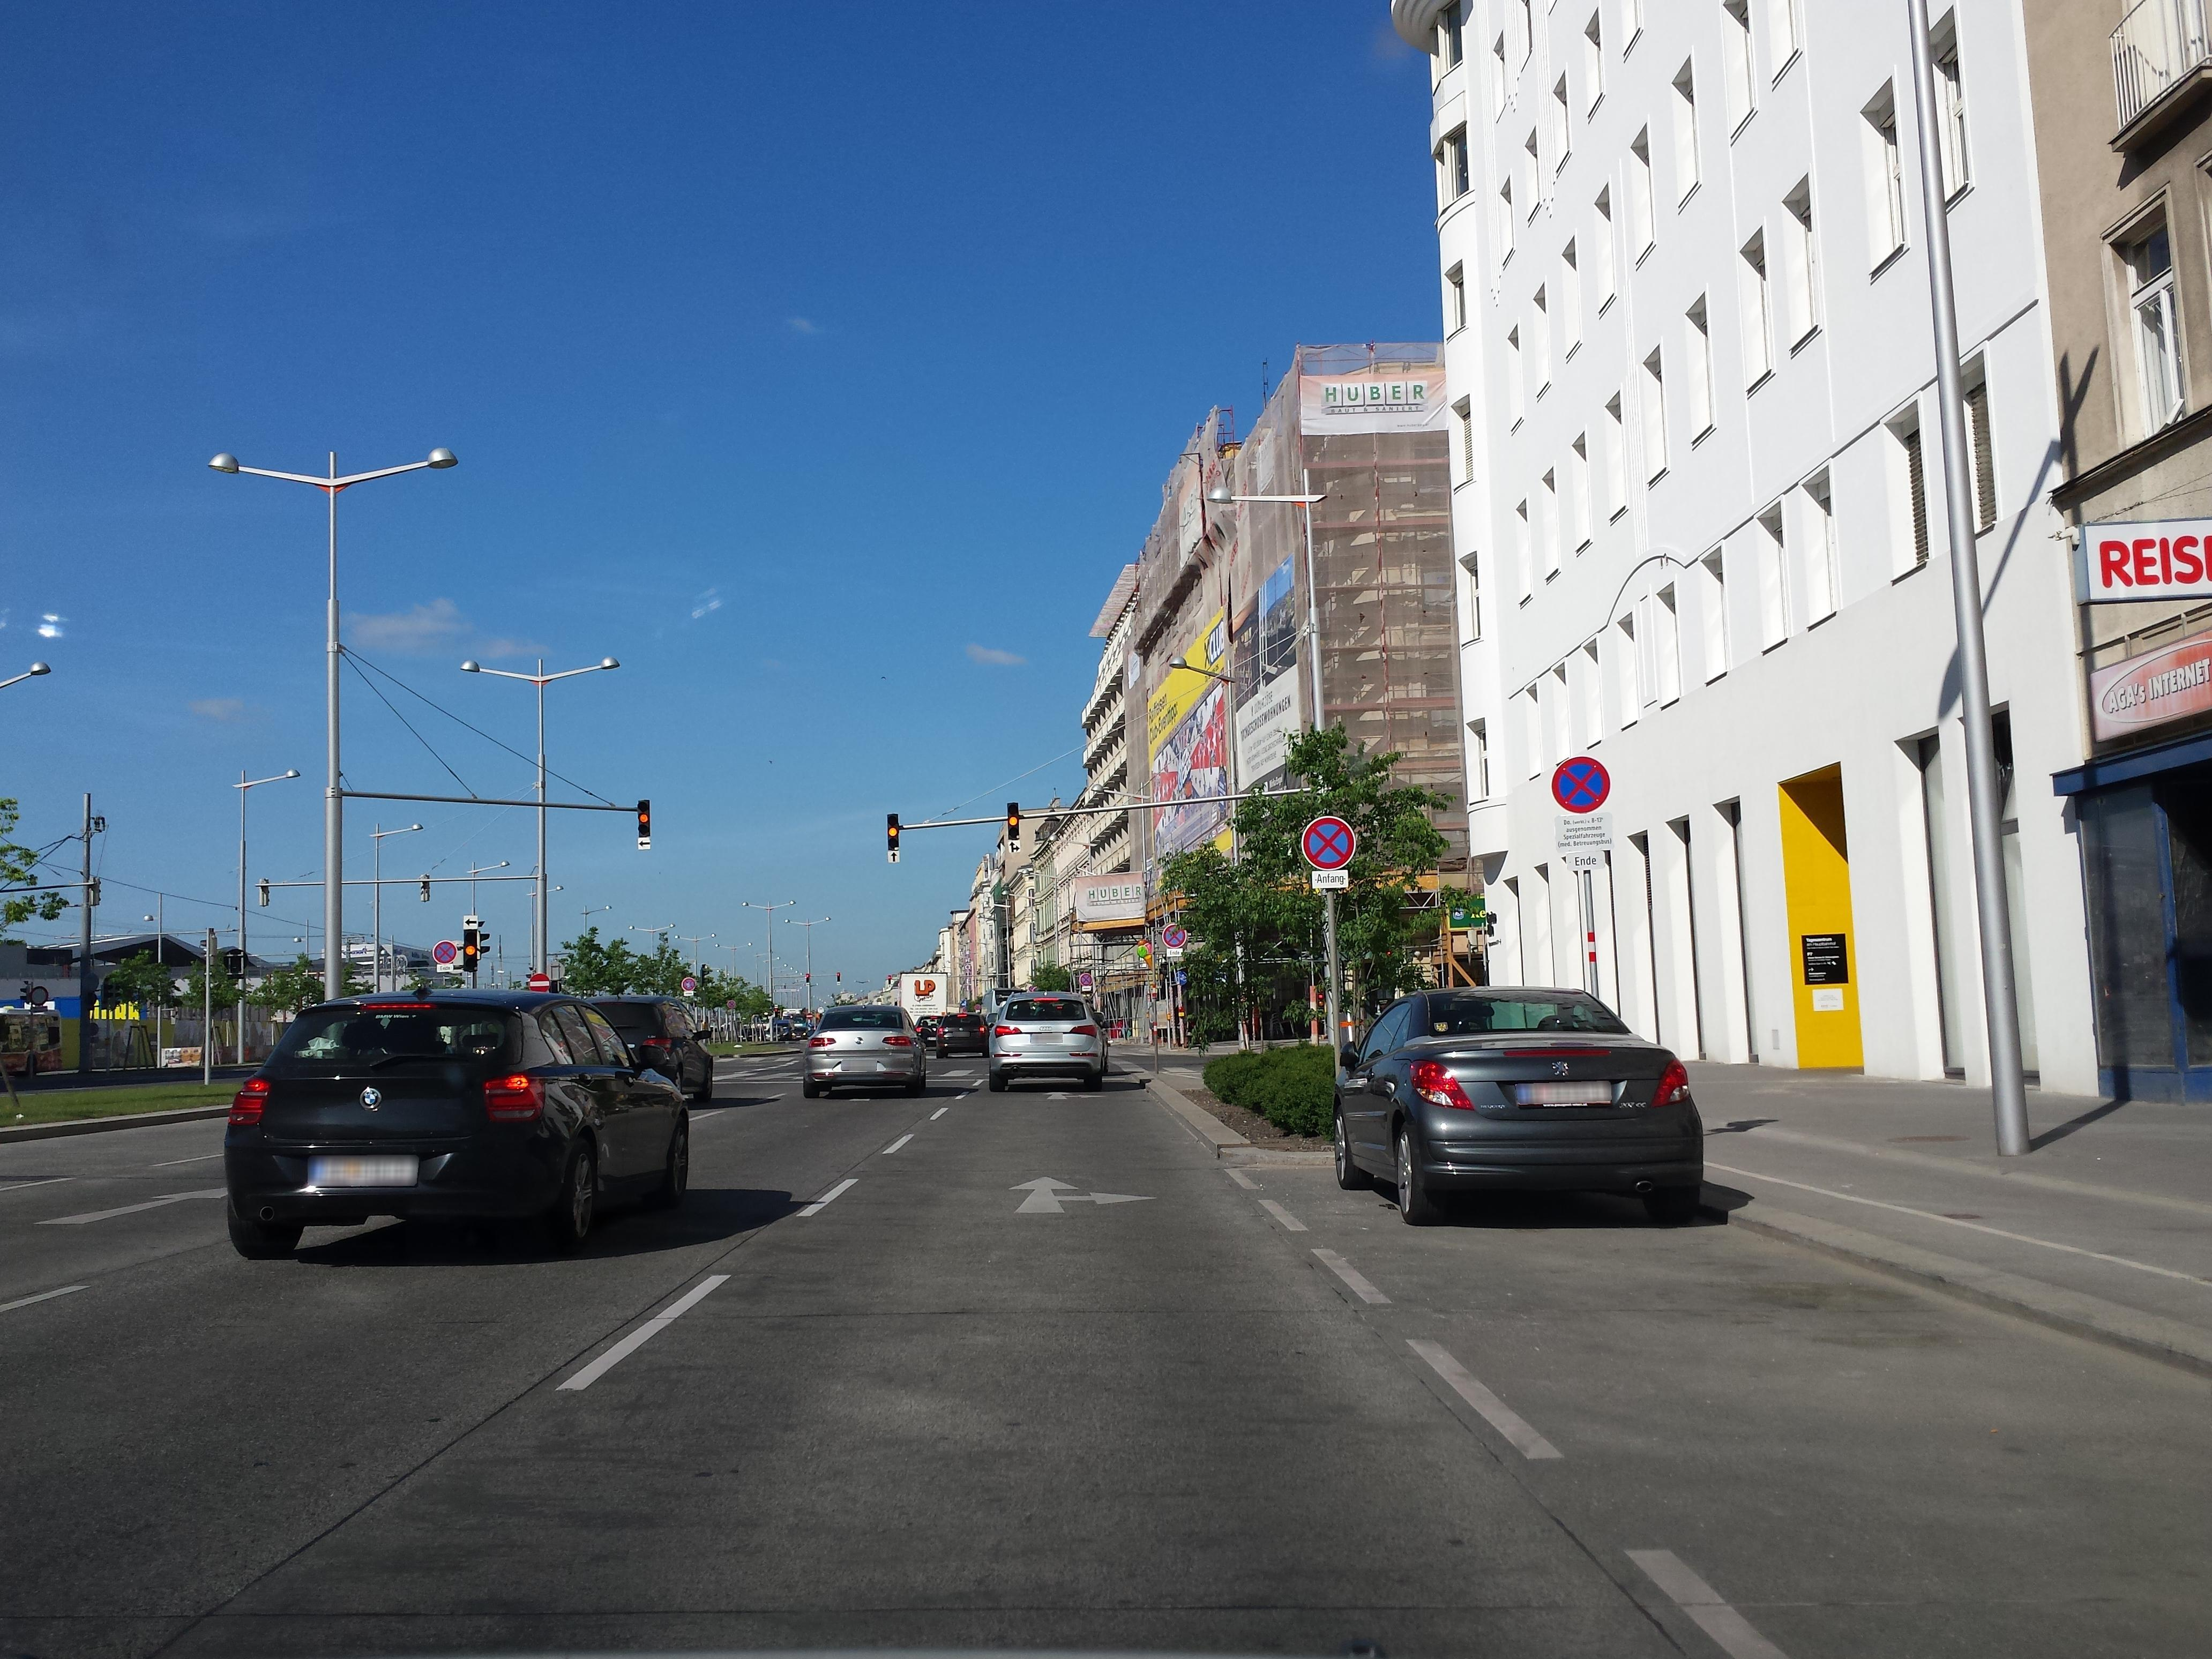vinyl banner: (1113, 613, 1251, 873), (1224, 538, 1318, 805), (1291, 359, 1451, 467)
